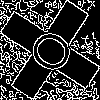O: (25, 25, 86, 83)
